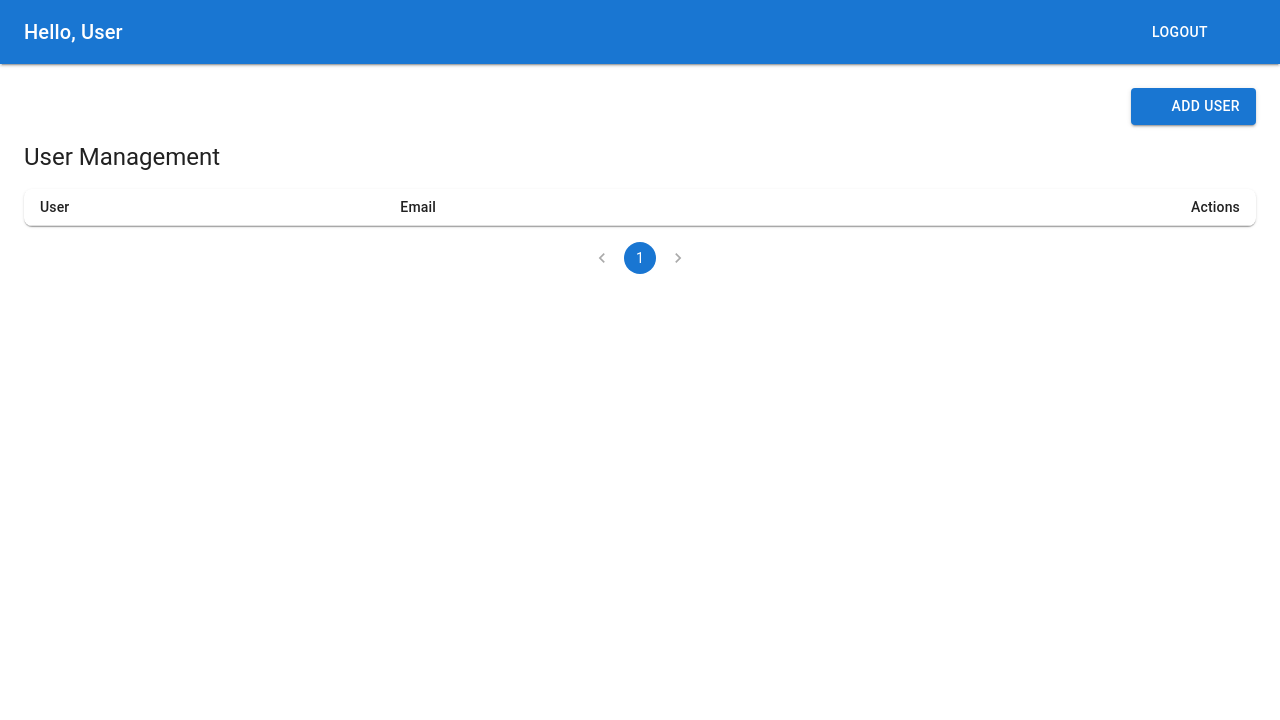
Test: Dashboard › should create a new user
The image size is (1280, 720).
Click the button "Add User": click(1195, 107) [1132, 88, 1257, 125]
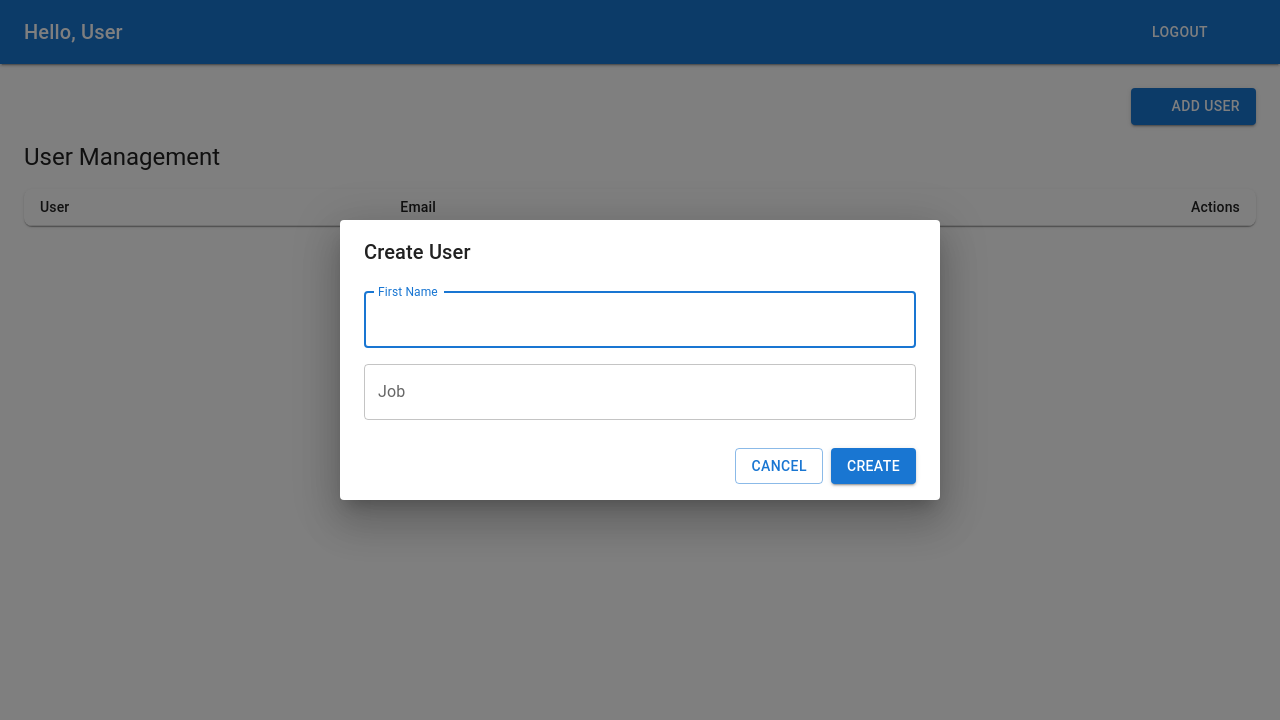
In the field named "first_name": (640, 320) [364, 292, 916, 348], type "Cypress User"
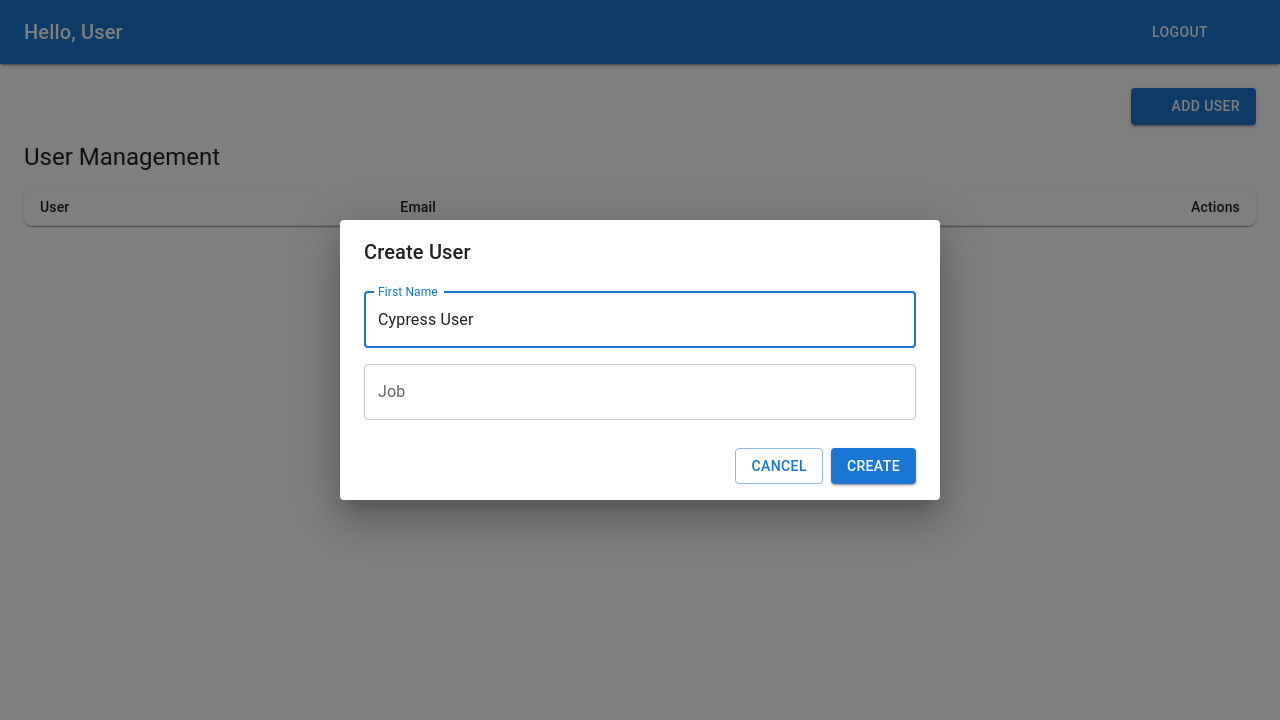
In the field named "job": (640, 392) [364, 364, 916, 420], type "Tester"
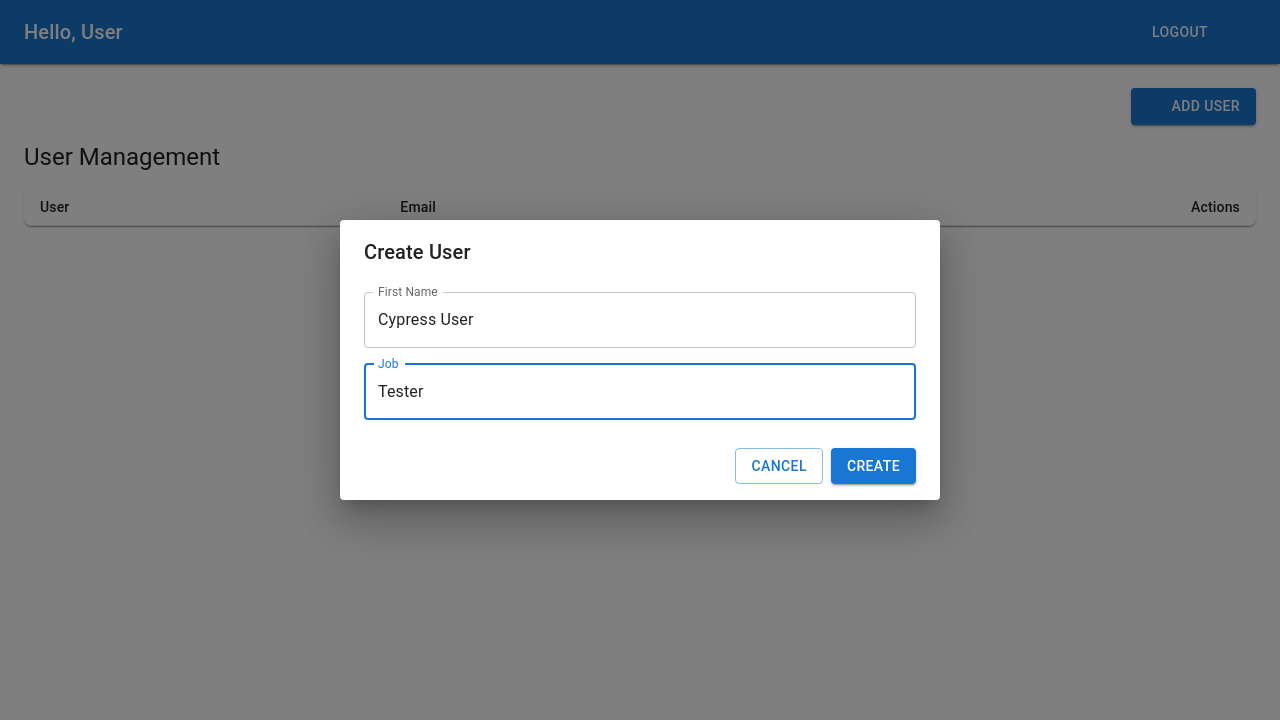
Click the button "Create": click(874, 467) [831, 448, 916, 485]
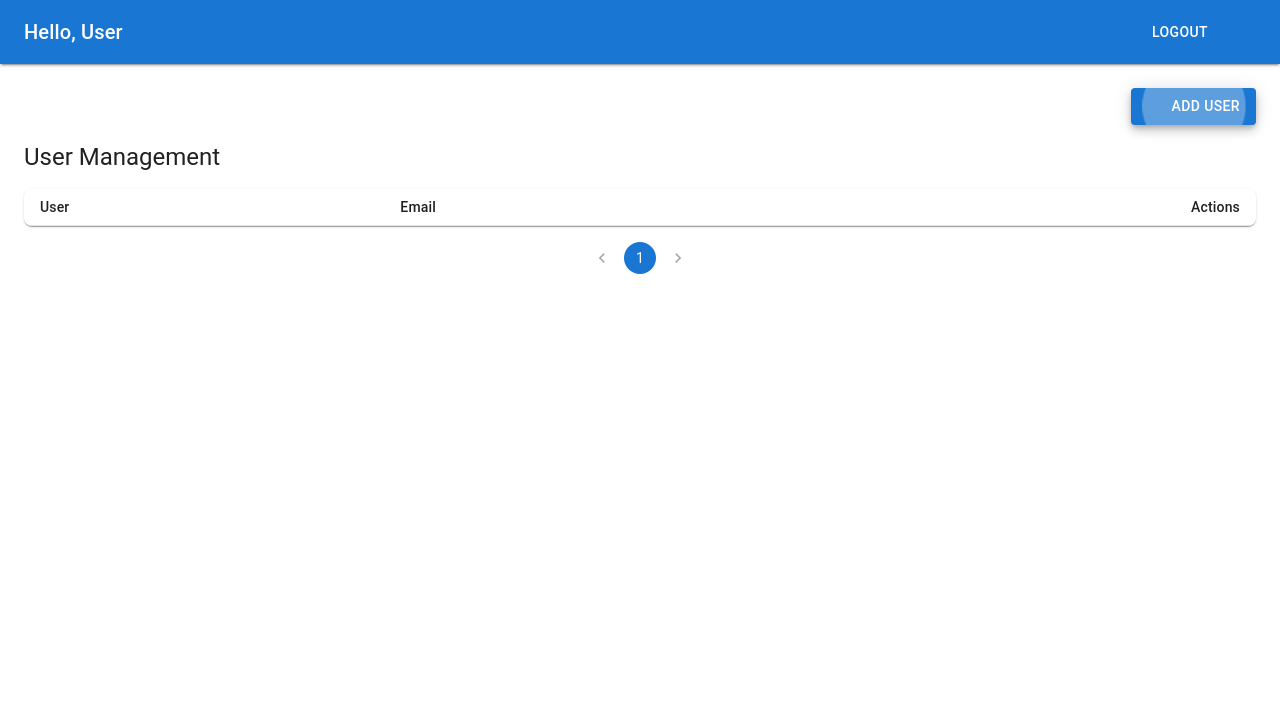
expect the field named "first_name" is gone: met
